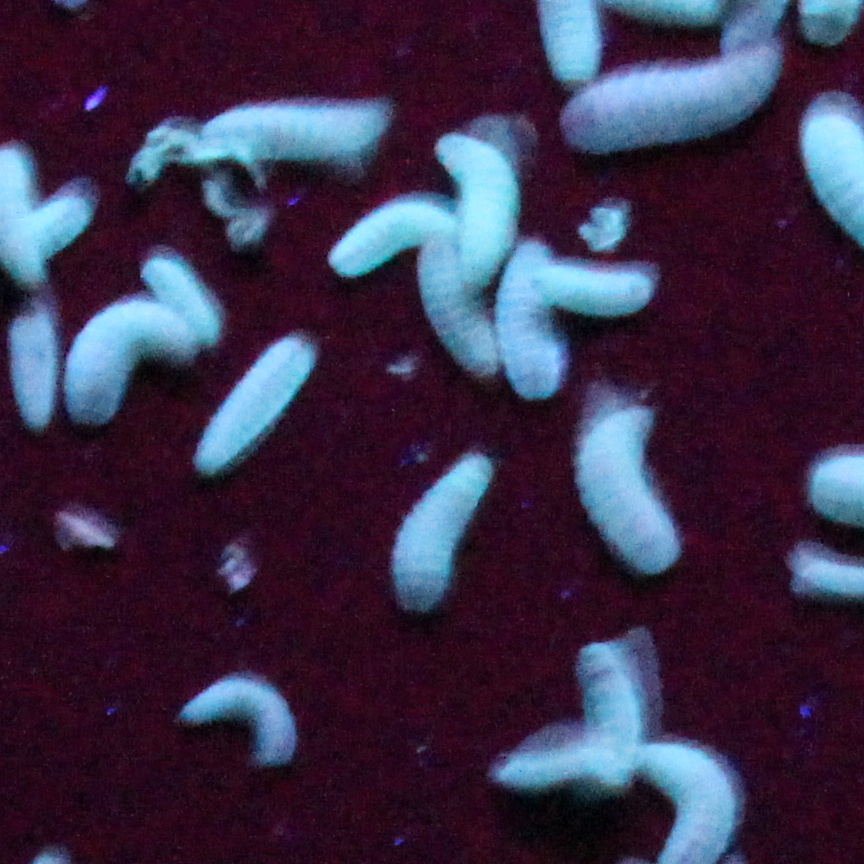larve: (566, 44, 778, 151), (578, 407, 678, 574), (196, 335, 313, 475), (67, 300, 196, 423), (394, 455, 493, 606), (435, 132, 518, 283), (418, 241, 501, 378), (202, 103, 389, 159), (497, 244, 561, 397), (329, 202, 455, 276), (180, 681, 295, 758), (580, 643, 639, 789), (141, 255, 220, 348), (534, 268, 650, 315), (11, 310, 54, 425), (497, 750, 578, 787)
